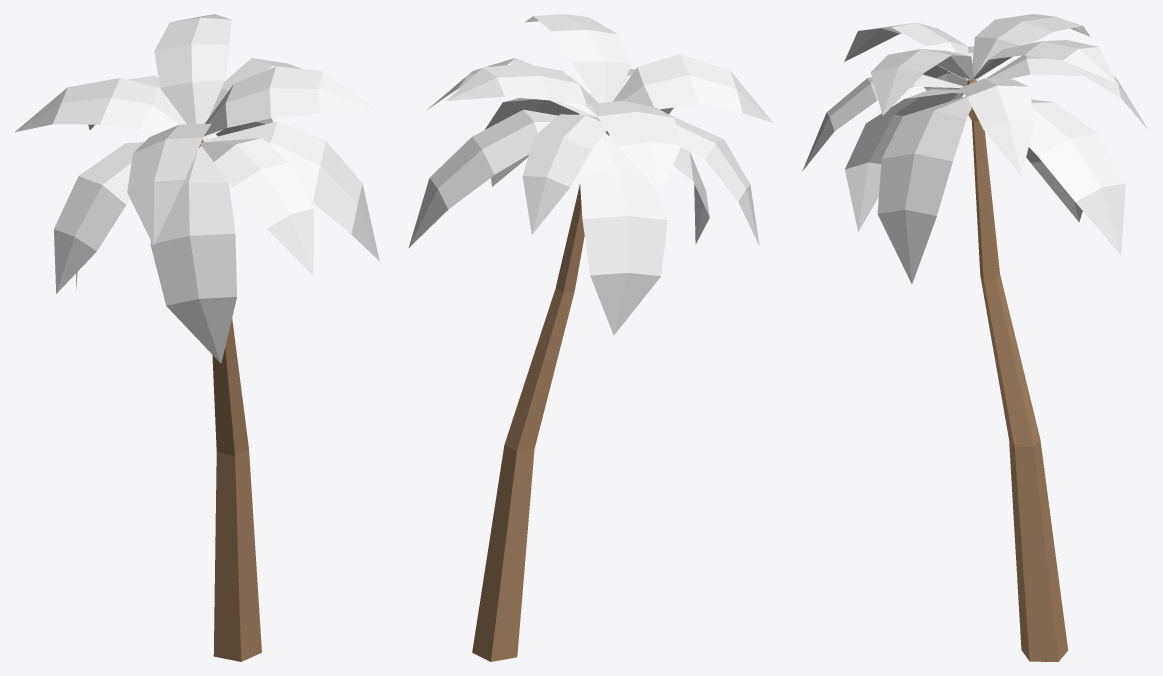
Rendered from Palm_Tree_OneSided_l_Snow_06_LOD.fbx.
3 views of the same model, side by side, from view 1: azimuth 30°, elevation 25°; view 2: azimuth 150°, elevation 25°; view 3: azimuth 270°, elevation 25° (orthographic). The views are drawn at different scales.
Parts seen in each view (by area): view 1: Palm_Tree_OneSided_l_Snow_06_LOD0; view 2: Palm_Tree_OneSided_l_Snow_06_LOD0; view 3: Palm_Tree_OneSided_l_Snow_06_LOD0.
Part boxes in pixels (x1,y1,x2,y2): Palm_Tree_OneSided_l_Snow_06_LOD0: (14, 14, 379, 661); Palm_Tree_OneSided_l_Snow_06_LOD0: (408, 14, 772, 661); Palm_Tree_OneSided_l_Snow_06_LOD0: (802, 14, 1147, 661).
Size of what is drawn, in the model's own units: 377 by 712 by 375.
